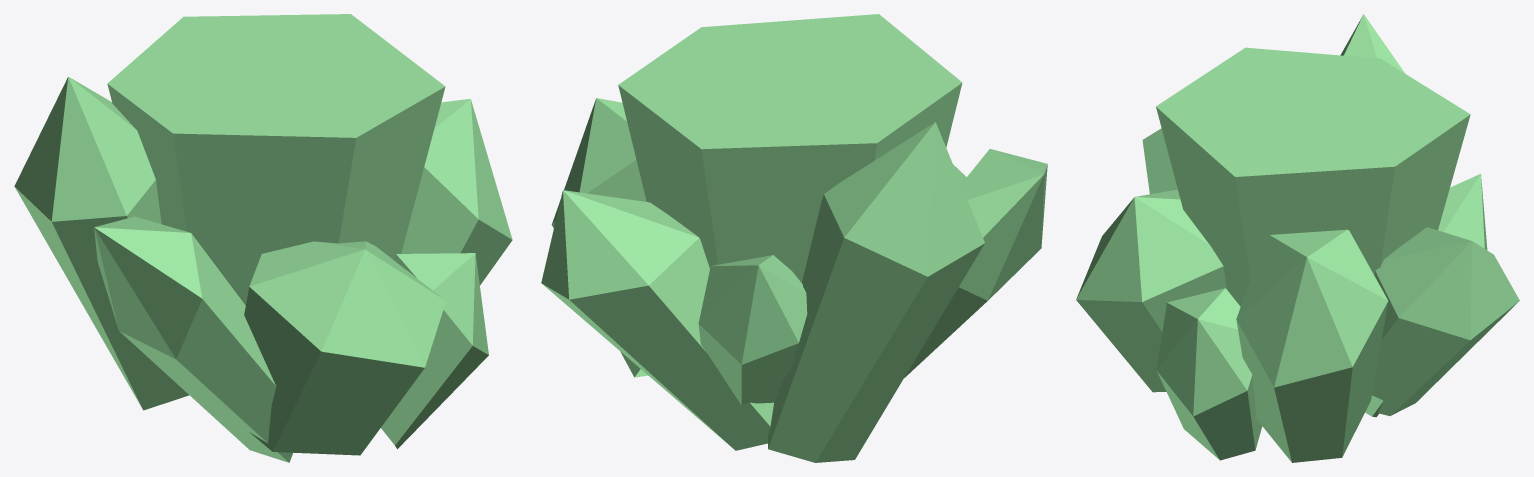
The model's file is Crystaltable.fbx.
The picture shows the model from 3 angles, left to right: view 1: azimuth 30°, elevation 25°; view 2: azimuth 150°, elevation 25°; view 3: azimuth 270°, elevation 25°; orthographic projection. The views are drawn at different scales.
Parts seen in each view (by area): view 1: CrystalTable; view 2: CrystalTable; view 3: CrystalTable.
Boxes of the visible parts, x1,y1,x2,y2 form: CrystalTable: (14, 14, 512, 462); CrystalTable: (541, 14, 1047, 462); CrystalTable: (1076, 14, 1519, 462).
Bounding box in the file's own units: 2.58 × 2.53 × 2.12.
